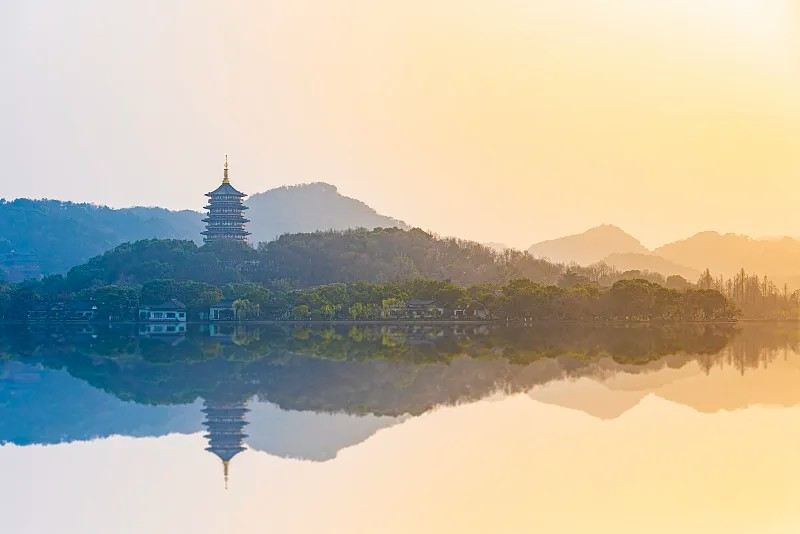Leifeng: (198, 156, 251, 249)
